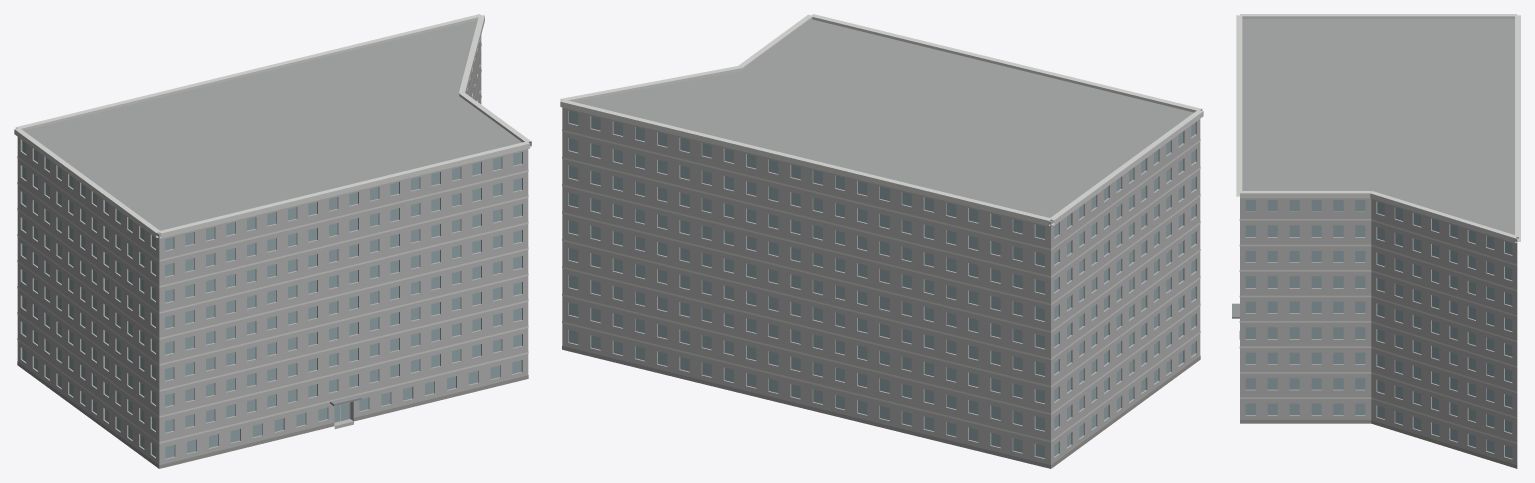
3 renders of one model, left to right at view 1: azimuth 30°, elevation 25°; view 2: azimuth 150°, elevation 25°; view 3: azimuth 270°, elevation 25°, orthographic. The views are drawn at different scales.
Parts seen in each view (by area): view 1: b1389446813__wall, b1389446813__roof, b1389446813__glass, b1389446813__trim, b1389446813__base; view 2: b1389446813__wall, b1389446813__roof, b1389446813__glass, b1389446813__trim, b1389446813__base; view 3: b1389446813__roof, b1389446813__wall, b1389446813__glass, b1389446813__trim, b1389446813__base.
Part boxes in pixels (<box>): b1389446813__wall: <box>17,36,528,468</box>; b1389446813__roof: <box>24,20,522,468</box>; b1389446813__glass: <box>22,140,521,458</box>; b1389446813__trim: <box>14,14,531,443</box>; b1389446813__base: <box>17,361,528,468</box>; b1389446813__wall: <box>562,107,1200,468</box>; b1389446813__roof: <box>575,19,1193,221</box>; b1389446813__glass: <box>569,110,1195,458</box>; b1389446813__trim: <box>560,14,1203,442</box>; b1389446813__base: <box>562,346,1200,468</box>; b1389446813__roof: <box>1242,19,1517,239</box>; b1389446813__wall: <box>1240,198,1517,465</box>; b1389446813__glass: <box>1245,200,1512,458</box>; b1389446813__trim: <box>1236,14,1520,443</box>; b1389446813__base: <box>1240,420,1517,468</box>.
Size of the model in its own units: 68.01 by 33.15 by 37.
